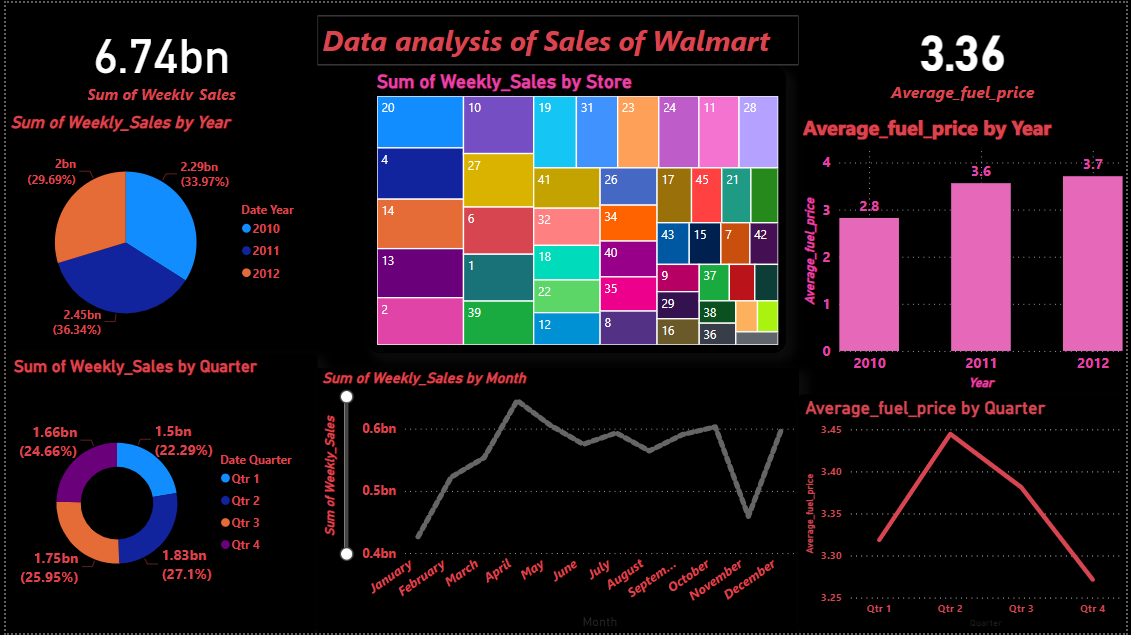

Layout of this report page (visuals, bound fields, positions):
{"tool":"powerbi","page":{"name":"Page 1","canvas":[1280,720],"ordinal":0},"visuals":[{"type":"clusteredColumnChart","fields":{"Category":["Walmart.Date.Variation.Date Hierarchy.Year"],"Y":["Walmart.Average_fuel_price"]},"box":[905,125,375,321.7],"z":0},{"type":"treemap","fields":{"Values":["Sum(Walmart.Weekly_Sales)"],"Group":["Walmart.Store"]},"box":[412.9,71.4,478.6,328.6],"z":1000},{"type":"textbox","box":[355.7,14.3,550,57.1],"z":2000},{"type":"pieChart","fields":{"Category":["Walmart.Date.Variation.Date Hierarchy.Year"],"Y":["Sum(Walmart.Weekly_Sales)"]},"box":[0,125.7,355.7,274.3],"z":3000},{"type":"donutChart","fields":{"Y":["Sum(Walmart.Weekly_Sales)"],"Category":["Walmart.Date.Variation.Date Hierarchy.Quarter"]},"box":[0,400,355.7,320],"z":4000},{"type":"lineChart","fields":{"Category":["Walmart.Date.Variation.Date Hierarchy.Month"],"Y":["Sum(Walmart.Weekly_Sales)"]},"box":[355.7,417.1,550,302.9],"z":5000},{"type":"lineChart","fields":{"Category":["Walmart.Date.Variation.Date Hierarchy.Quarter"],"Y":["Walmart.Average_fuel_price"]},"box":[905,446.7,375,273.3],"z":6000},{"type":"card","fields":{"Values":["Sum(Walmart.Weekly_Sales)"]},"box":[0,14.3,355.7,101.4],"z":7000},{"type":"card","fields":{"Values":["Walmart.Average_fuel_price"]},"box":[905,0,375,125],"z":7001}]}

Visuals, with their boxes in screenshot pixels (x1, y1, x2, y2), scaled from the page's 1280x720 canvas onto the 1131x635 screenshot:
clusteredColumnChart - Walmart.Date.Variation.Date Hierarchy.Year x Walmart.Average_fuel_price: select_region(800, 110, 1130, 394)
treemap - Sum(Walmart.Weekly_Sales) x Walmart.Store: select_region(365, 63, 788, 353)
textbox: select_region(314, 13, 800, 63)
pieChart - Walmart.Date.Variation.Date Hierarchy.Year x Sum(Walmart.Weekly_Sales): select_region(0, 111, 314, 353)
donutChart - Sum(Walmart.Weekly_Sales) x Walmart.Date.Variation.Date Hierarchy.Quarter: select_region(0, 353, 314, 634)
lineChart - Walmart.Date.Variation.Date Hierarchy.Month x Sum(Walmart.Weekly_Sales): select_region(314, 368, 800, 634)
lineChart - Walmart.Date.Variation.Date Hierarchy.Quarter x Walmart.Average_fuel_price: select_region(800, 394, 1130, 634)
card - Sum(Walmart.Weekly_Sales): select_region(0, 13, 314, 102)
card - Walmart.Average_fuel_price: select_region(800, 0, 1130, 110)
